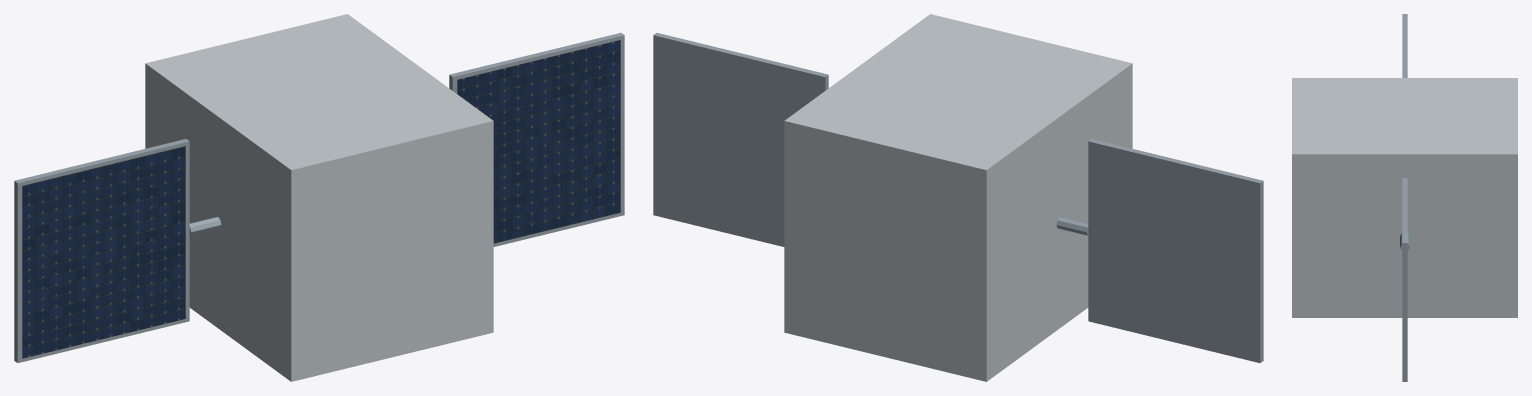
File: ref-tsubame-40302.glb
The picture shows the model from 3 angles, left to right: view 1: azimuth 30°, elevation 25°; view 2: azimuth 150°, elevation 25°; view 3: azimuth 270°, elevation 25°; orthographic projection. The views are drawn at different scales.
Parts seen in each view (by area): view 1: Spacecraft body, Photovoltaic laminates (×2), Array frame (×2); view 2: Spacecraft body, Array frame (×2); view 3: Spacecraft body, Array frame (×2).
Part boxes in pixels (x1,y1,x2,y2): Spacecraft body: [145, 14, 493, 381]; Photovoltaic laminates (×2): [22, 40, 620, 358]; Array frame (×2): [14, 33, 624, 362]; Spacecraft body: [784, 14, 1132, 381]; Array frame (×2): [653, 33, 1263, 362]; Spacecraft body: [1292, 78, 1517, 317]; Array frame (×2): [1402, 14, 1407, 381].
Bounding box in the file's own units: 1.2 × 0.4 × 0.5.
3 materials, 1 textured.
